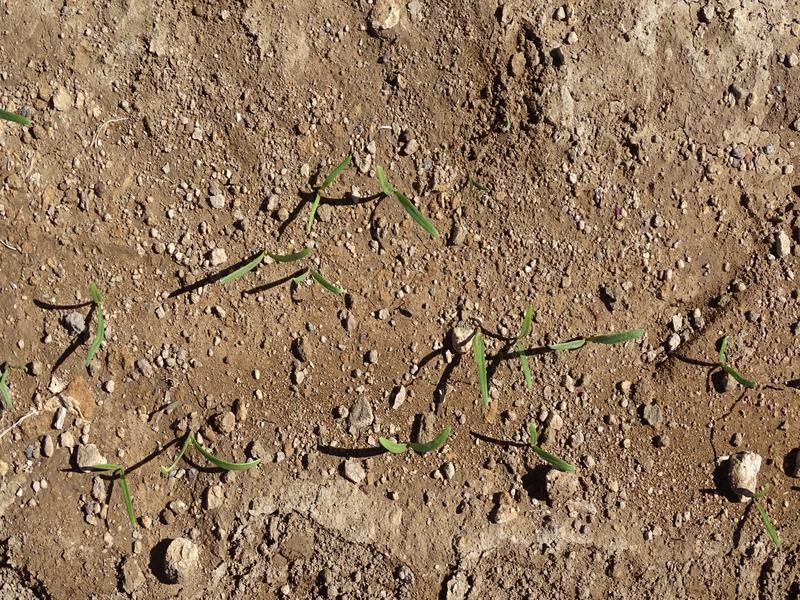Espinaca: (375, 161, 444, 239), (300, 151, 360, 236), (229, 247, 342, 292), (171, 420, 262, 475), (86, 459, 147, 534), (545, 326, 646, 358), (520, 420, 580, 473), (84, 280, 114, 373), (472, 323, 497, 411), (373, 428, 454, 454)
